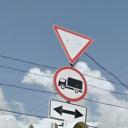preferencia: (51, 24, 96, 67)
